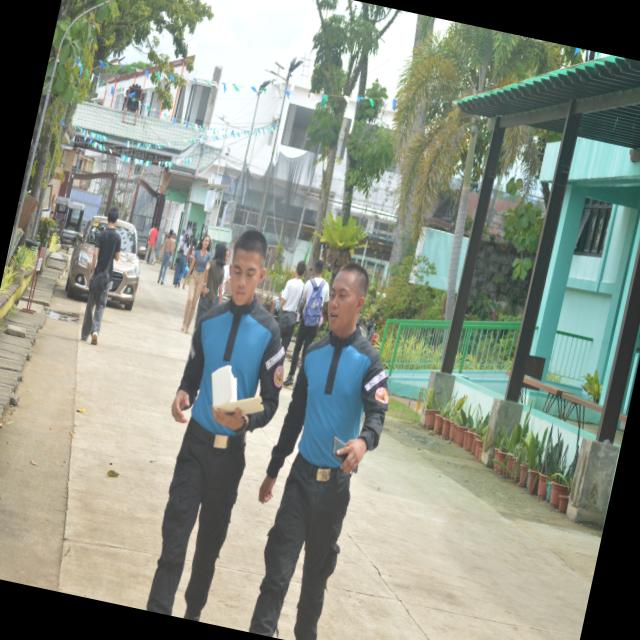person: (147, 231, 285, 621), (249, 263, 389, 639), (284, 260, 329, 386), (81, 207, 121, 344), (181, 235, 211, 333), (194, 242, 227, 331), (279, 261, 306, 350), (158, 230, 176, 284), (173, 235, 189, 287), (145, 224, 159, 264)
